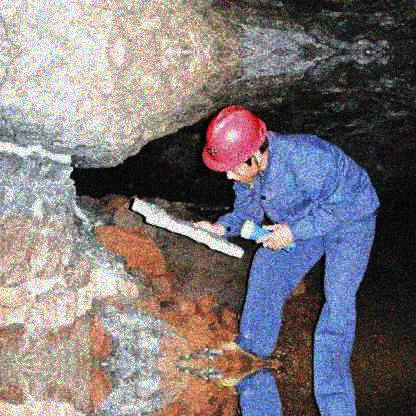helmet: (200, 107, 275, 186)
